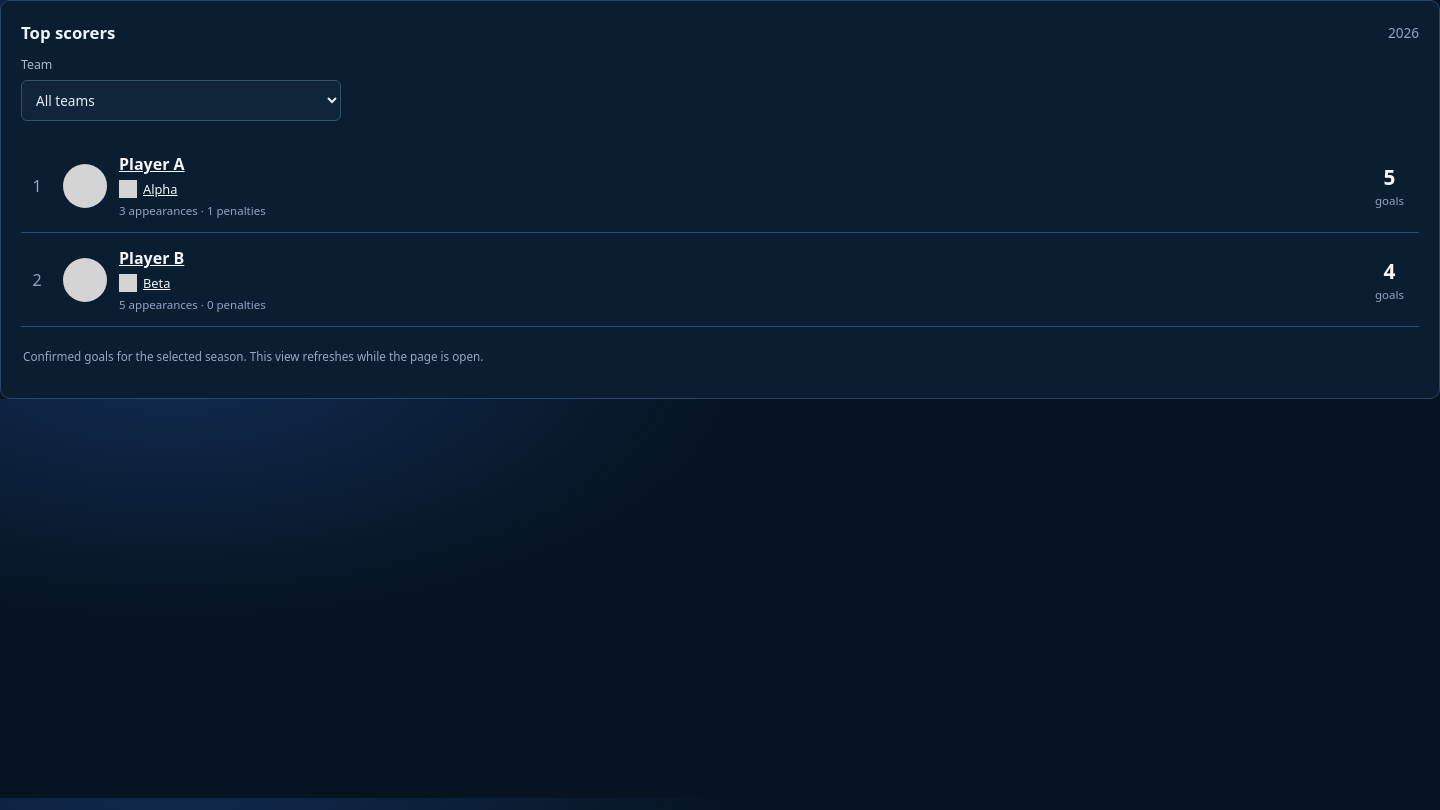
Test: shows confirmed season scorers, goals and real player and club links
Expected: the link "Player A" is shown, [119, 153, 185, 175]
Expected: the text "5" is shown, [1384, 163, 1395, 191]
Select "Beta" in the dropdown named "Scorer team" at (181, 100), box [21, 80, 341, 121]
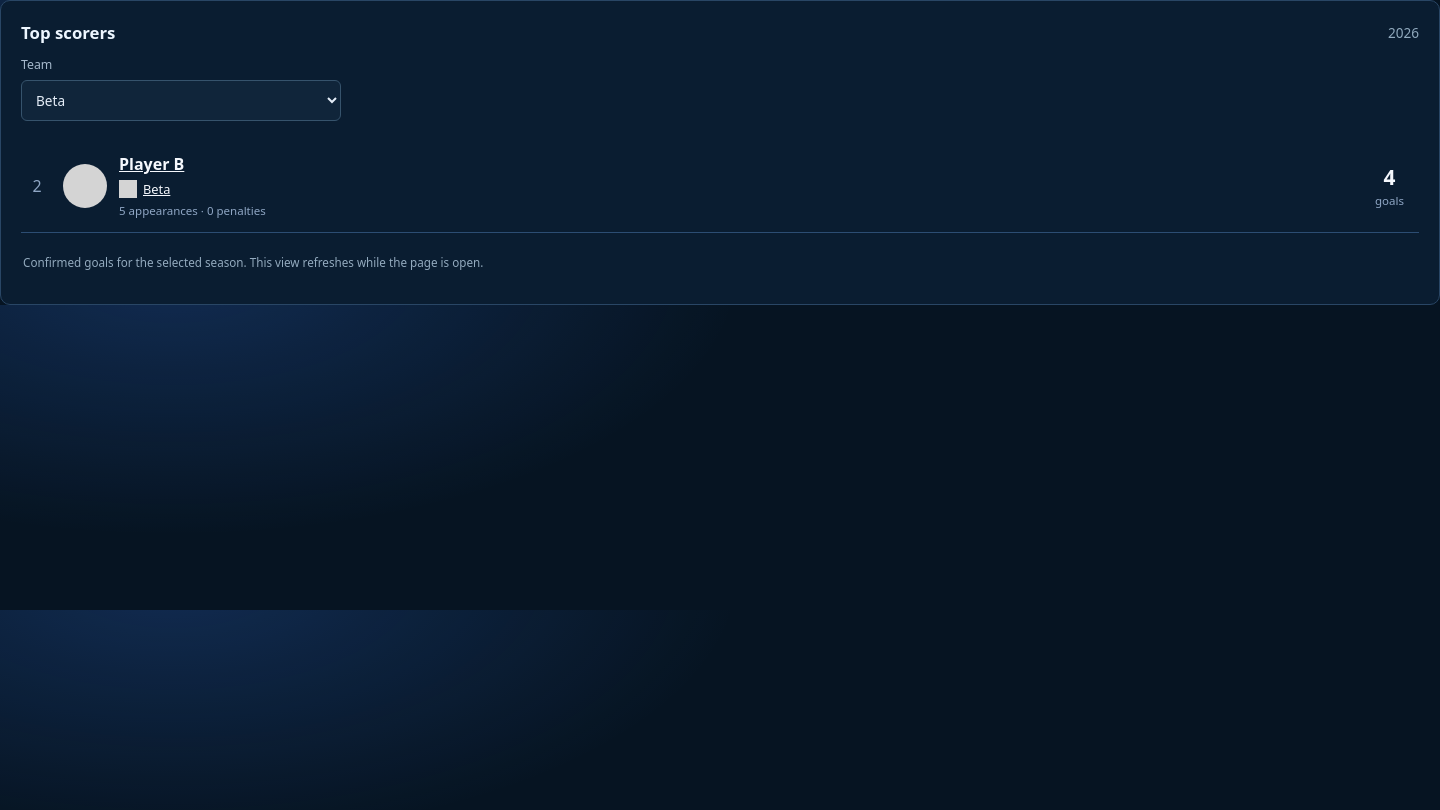
Expected: the link "Player B" is shown, [119, 153, 184, 175]
Expected: the link "Player A" is gone
